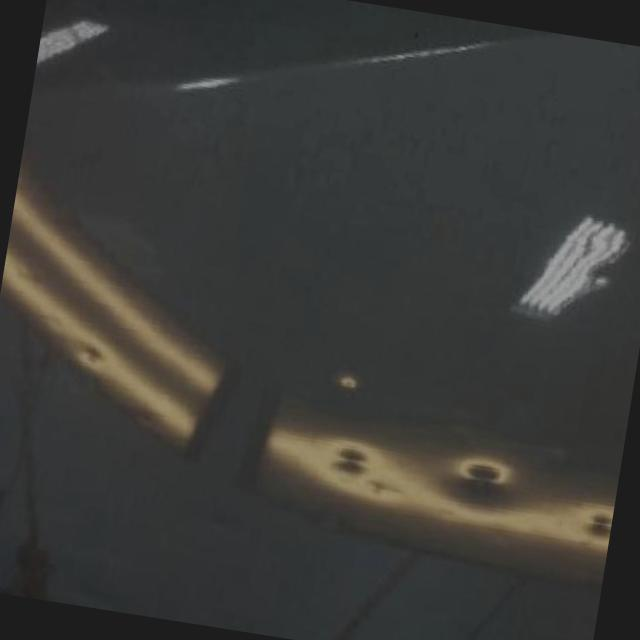dent: (456, 459, 508, 491), (332, 445, 370, 479), (583, 506, 614, 543), (367, 476, 403, 502), (81, 346, 105, 368), (338, 373, 358, 392)
